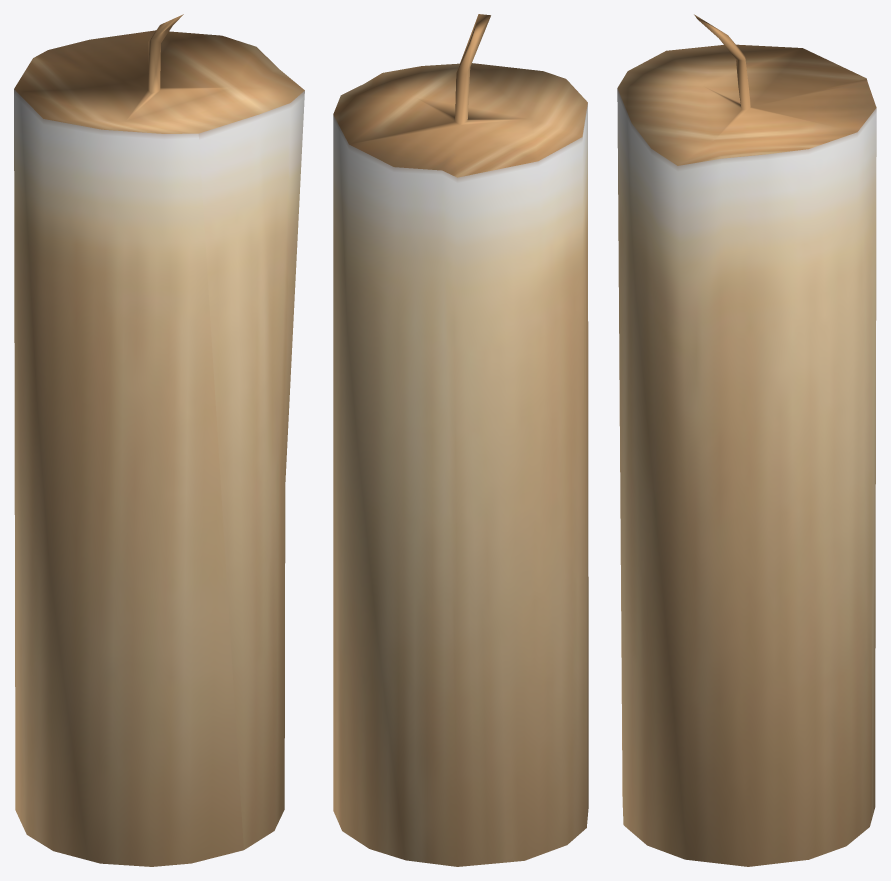
File: psx_candle.glb
3 views of the same model, side by side, from view 1: azimuth 30°, elevation 25°; view 2: azimuth 150°, elevation 25°; view 3: azimuth 270°, elevation 25° (orthographic). The views are drawn at different scales.
Parts seen in each view (by area): view 1: Cylinder; view 2: Cylinder; view 3: Cylinder.
Boxes of the visible parts, <box> form: Cylinder: <box>14,14,304,866</box>; Cylinder: <box>333,14,588,866</box>; Cylinder: <box>617,14,876,866</box>.
Size of the model in its own units: 0.6782 by 2.24 by 0.6608.
Materials: 1 (1 with a texture image).
